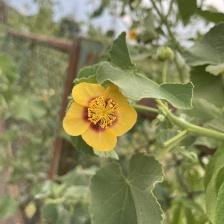indian mallow: (64, 83, 141, 153)
